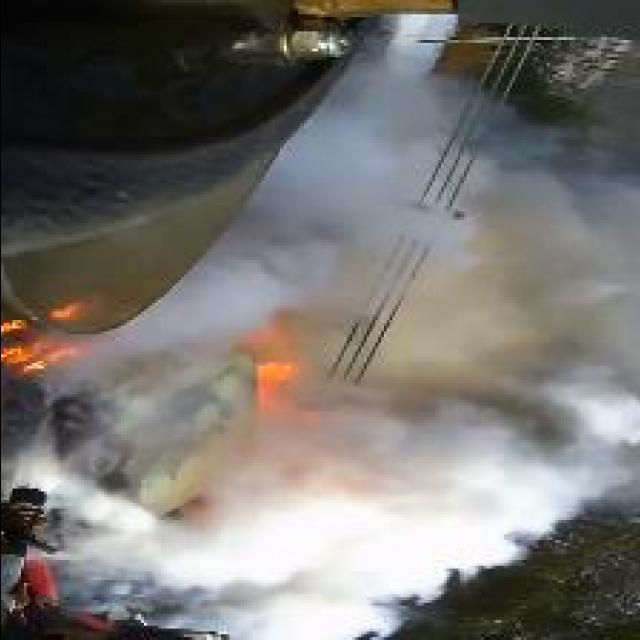Fire: (0, 300, 83, 374), (254, 363, 306, 417)
